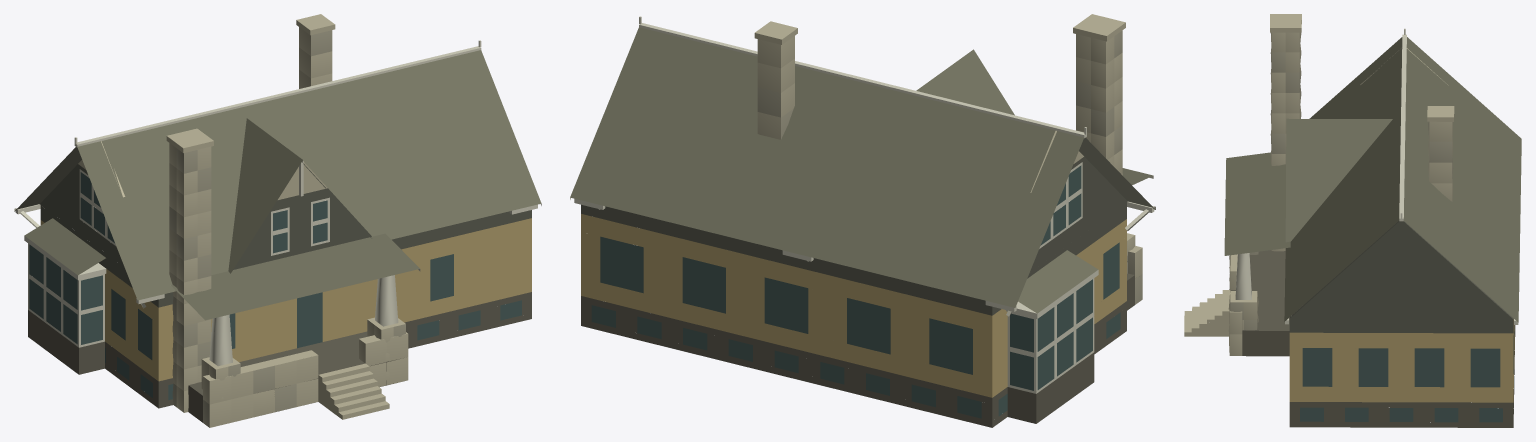
Rendered from trethewey-house-far.glb.
3 renders of one model, left to right at view 1: azimuth 30°, elevation 25°; view 2: azimuth 150°, elevation 25°; view 3: azimuth 270°, elevation 25°, orthographic. The views are drawn at different scales.
Parts seen in each view (by area): view 1: trethewey-house-0-roof, trethewey-house-0-stone, trethewey-house-0-paint, trethewey-house-0-glass, trethewey-house-0-wood, trethewey-house-0-base, trethewey-house-0-trim, trethewey-house-0-stone2; view 2: trethewey-house-0-roof, trethewey-house-0-paint, trethewey-house-0-glass, trethewey-house-0-base, trethewey-house-0-wood, trethewey-house-0-stone, trethewey-house-0-trim, trethewey-house-0-stone2; view 3: trethewey-house-0-roof, trethewey-house-0-wood, trethewey-house-0-paint, trethewey-house-0-base, trethewey-house-0-stone, trethewey-house-0-glass, trethewey-house-0-stone2, trethewey-house-0-trim.
Boxes of the visible parts, left/top/right/bottom form: trethewey-house-0-roof: left=24, top=50, right=541, bottom=320; trethewey-house-0-stone: left=78, top=14, right=408, bottom=427; trethewey-house-0-paint: left=40, top=218, right=531, bottom=381; trethewey-house-0-glass: left=29, top=172, right=521, bottom=400; trethewey-house-0-wood: left=14, top=147, right=531, bottom=307; trethewey-house-0-base: left=28, top=292, right=531, bottom=422; trethewey-house-0-trim: left=14, top=40, right=541, bottom=366; trethewey-house-0-stone2: left=169, top=30, right=405, bottom=427; trethewey-house-0-roof: left=570, top=27, right=1152, bottom=313; trethewey-house-0-paint: left=581, top=214, right=1126, bottom=397; trethewey-house-0-glass: left=591, top=165, right=1120, bottom=418; trethewey-house-0-base: left=581, top=273, right=1134, bottom=427; trethewey-house-0-wood: left=581, top=137, right=1155, bottom=315; trethewey-house-0-stone: left=754, top=14, right=1142, bottom=278; trethewey-house-0-trim: left=570, top=16, right=1155, bottom=393; trethewey-house-0-stone2: left=757, top=30, right=1142, bottom=304; trethewey-house-0-roof: left=1224, top=37, right=1521, bottom=322; trethewey-house-0-wood: left=1289, top=221, right=1513, bottom=333; trethewey-house-0-paint: left=1289, top=319, right=1514, bottom=402; trethewey-house-0-base: left=1230, top=250, right=1515, bottom=427; trethewey-house-0-stone: left=1184, top=14, right=1454, bottom=355; trethewey-house-0-glass: left=1300, top=325, right=1514, bottom=422; trethewey-house-0-stone2: left=1229, top=33, right=1453, bottom=330; trethewey-house-0-trim: left=1235, top=28, right=1518, bottom=324.
Bounding box in the file's own units: 17.34 × 11 × 13.26.
